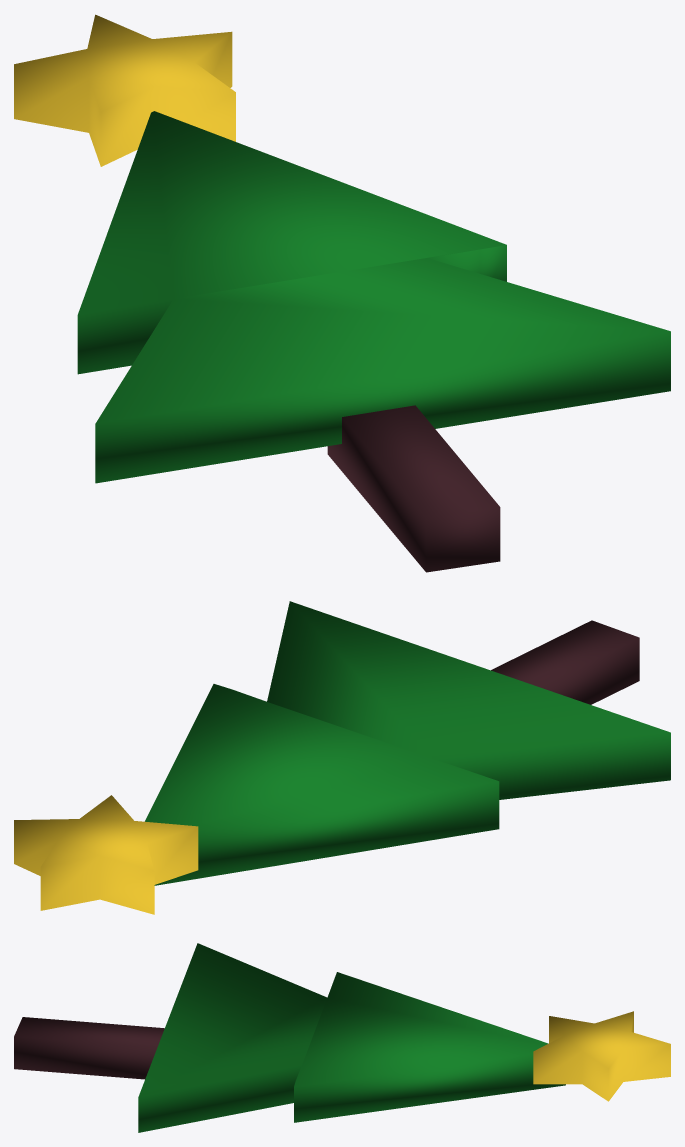
File: christmas_tree.glb
3 renders of one model, top to bottom at view 1: azimuth 30°, elevation 25°; view 2: azimuth 150°, elevation 25°; view 3: azimuth 270°, elevation 25°, orthographic. The views are drawn at different scales.
Parts seen in each view (by area): view 1: Circle, Circle.037, Cube.002; view 2: Circle, Circle.037, Cube.002; view 3: Circle, Circle.037, Cube.002.
Boxes of the visible parts, x1,y1,x2,y2 form: Circle: (77,111,670,483); Circle.037: (14,14,235,166); Cube.002: (327,405,500,572); Circle: (145,601,670,885); Circle.037: (14,795,198,914); Cube.002: (491,620,639,704); Circle: (138,943,565,1132); Circle.037: (533,1011,670,1101); Cube.002: (14,1017,164,1079).
Size of the model in its own units: 1.12 by 0.2274 by 2.02.
